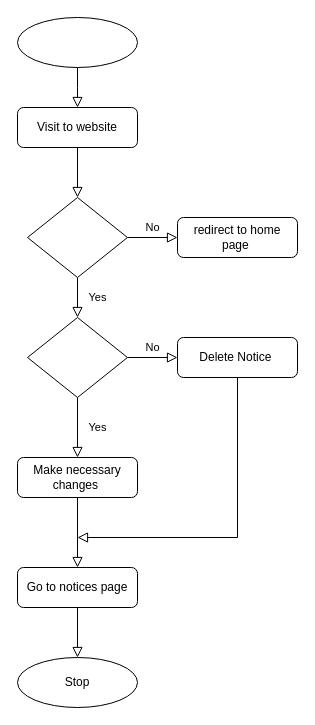
Some shapes in this 315 by 725 pixel diagram are drawn without their labels. Each missing label, with the centre of its shape:
Need to modify notice: (x=77, y=237)
Start: (x=77, y=42)
Update the notice: (x=77, y=357)
